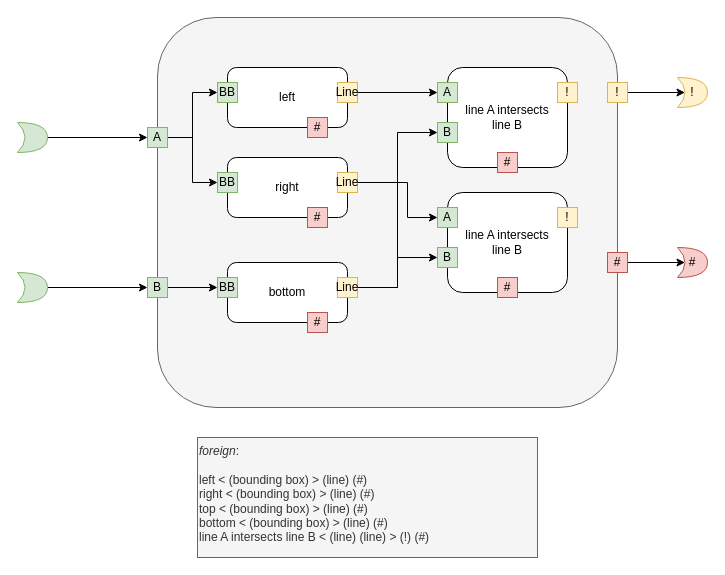
Some shapes in this 725 by 575 pixel diagram are drawn without their labels. The shapes that lost their labels are listed below. From the top down, each one's box as (x1, y1, x2, y2) in pixels, then its label:
(16, 122, 48, 152): BB1
(156, 16, 618, 408): and
(16, 272, 48, 302): BB2
